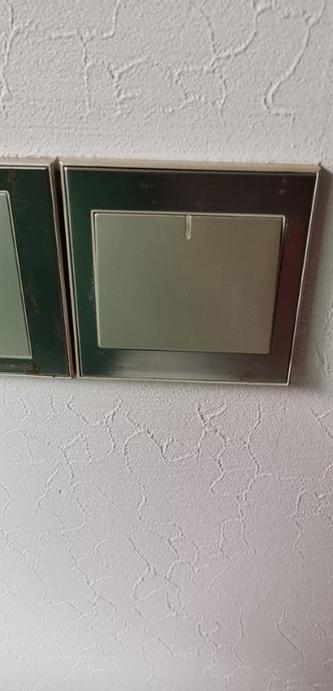switch: (86, 202, 277, 359)
